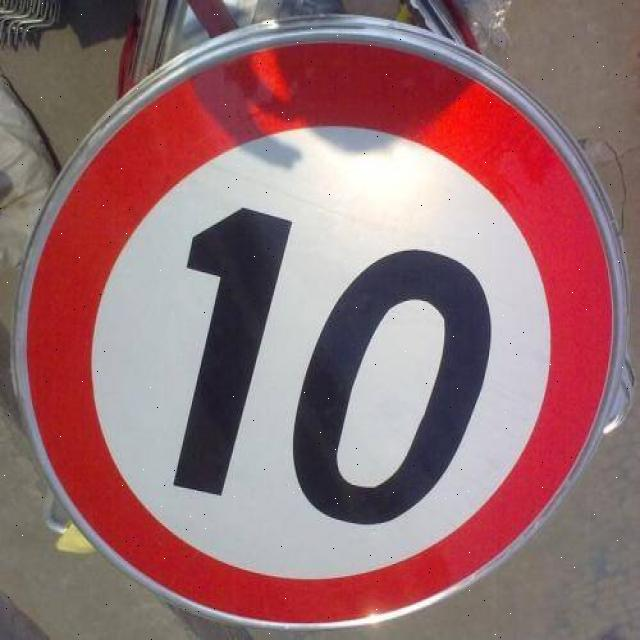speed limit 10: (14, 21, 630, 632)
